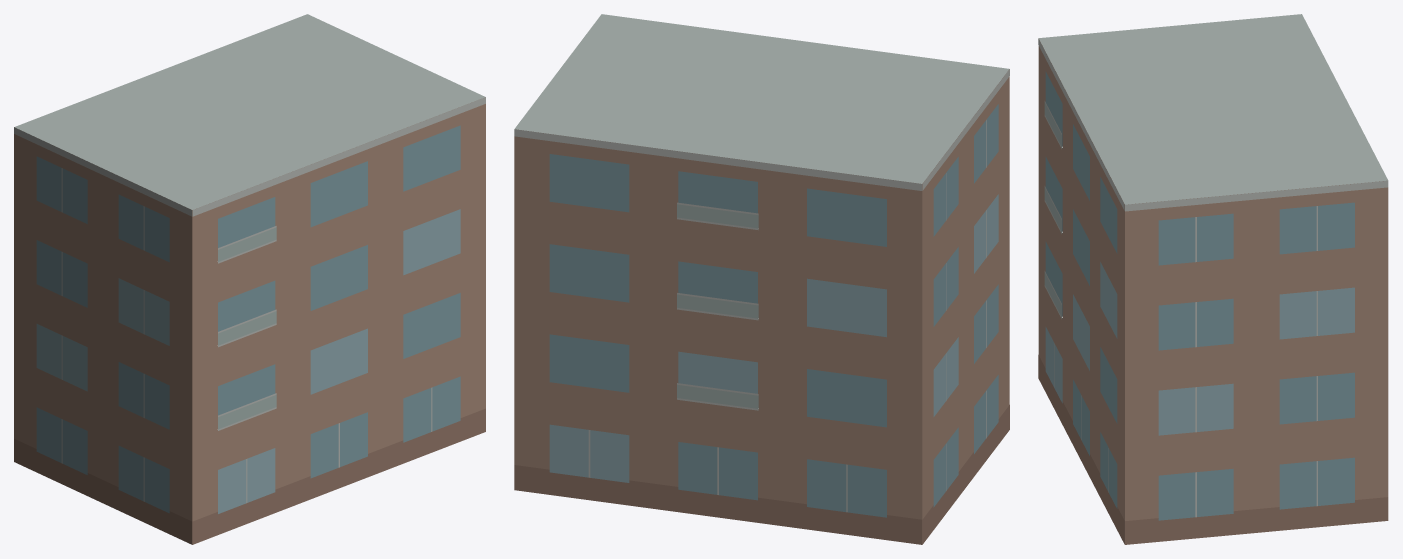
The model's file is survey-upis-32825067.glb.
3 views of the same model, side by side, from view 1: azimuth 30°, elevation 25°; view 2: azimuth 150°, elevation 25°; view 3: azimuth 270°, elevation 25° (orthographic). The views are drawn at different scales.
Visible parts, largest first — view 1: survey-upis-32825067.tmp; view 2: survey-upis-32825067.tmp; view 3: survey-upis-32825067.tmp.
Part boxes in pixels (<box>): survey-upis-32825067.tmp: <box>14,14,485,544</box>; survey-upis-32825067.tmp: <box>514,14,1009,544</box>; survey-upis-32825067.tmp: <box>1038,14,1388,544</box>.
Size of the model in its own units: 14.68 by 12.2 by 11.39.
